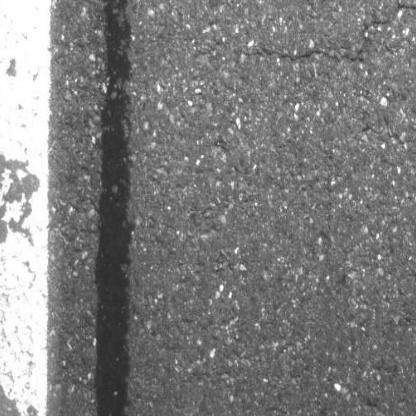Cracks: (238, 0, 416, 70)
